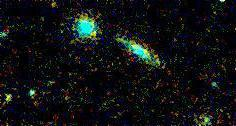star: (39, 0, 69, 20)
